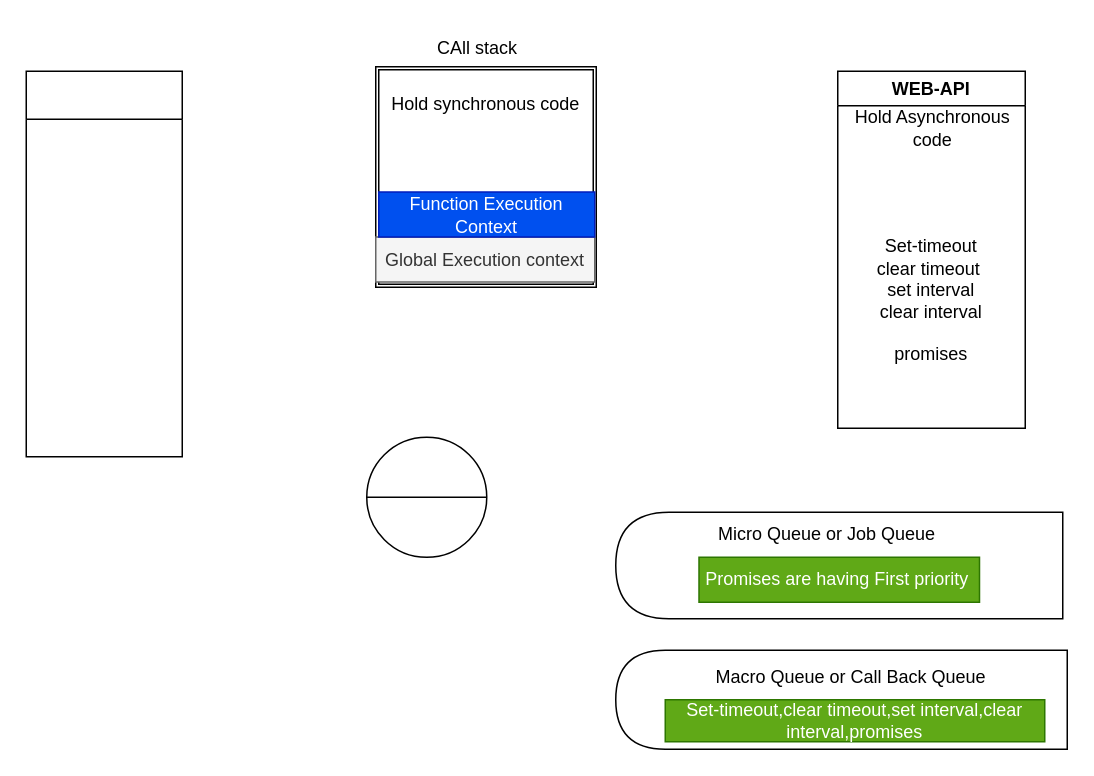
Some shapes in this 1094 by 776 pixel diagram are drawn without their labels. Here are the shapes that lost their labels. From the top down, the centre of each, then its label:
At point (103, 263): "Java Script code".
At point (426, 496): "Event Loop".
